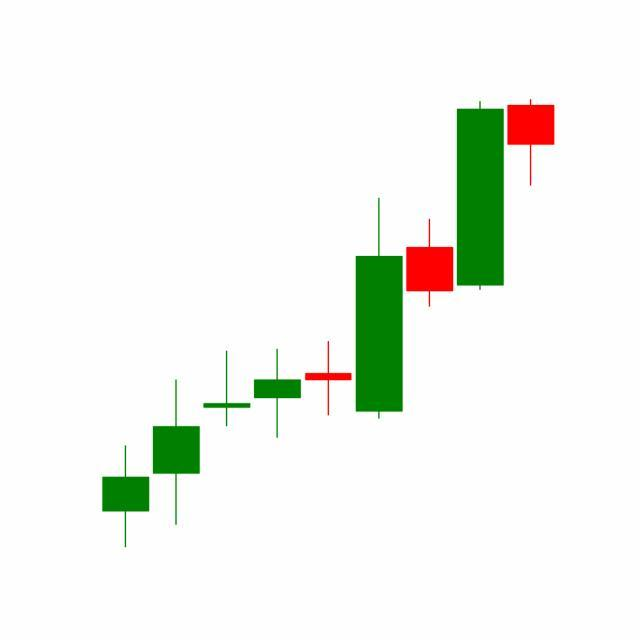Hikkake Pattern: (252, 99, 506, 443)
